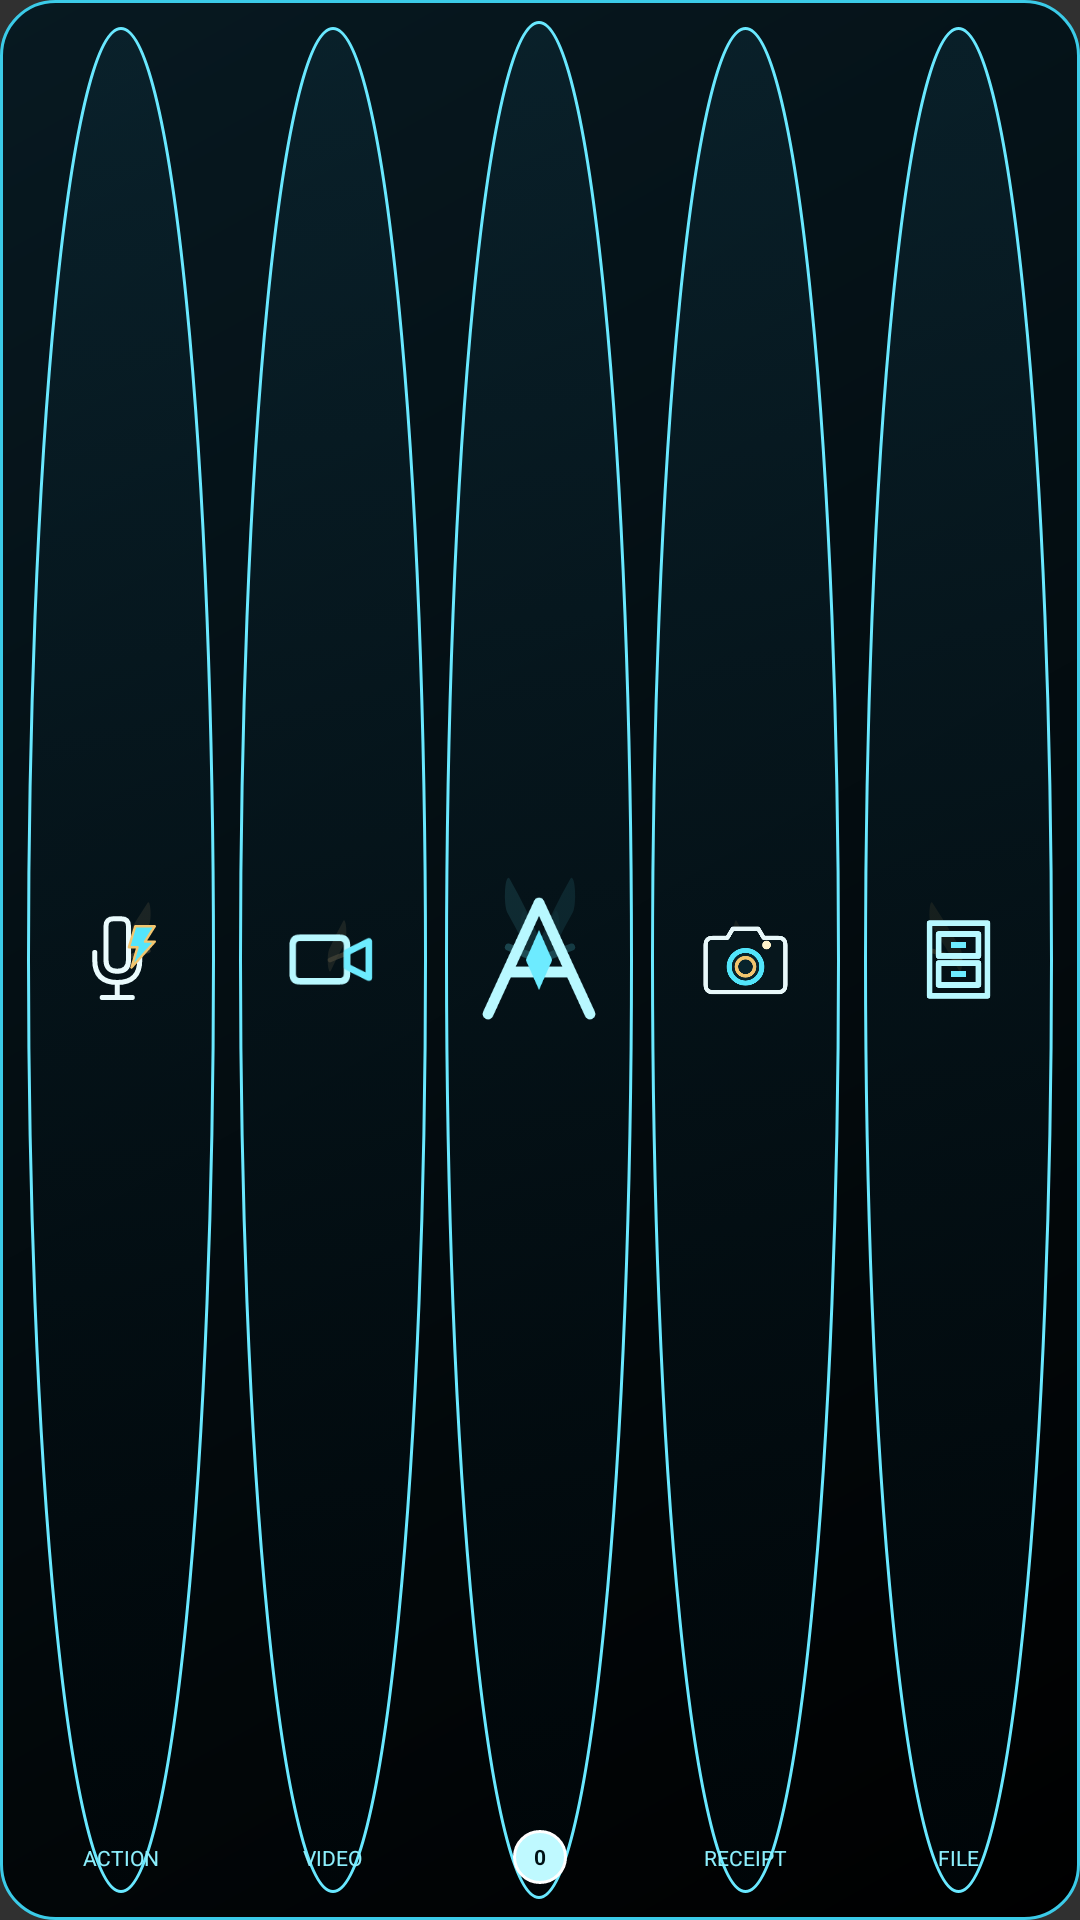

Where icons sit on this 1080w x 1920h app screen, as bbox=(x1, y1, x2, y2):
aqua widget action: bbox=(92, 916, 156, 1000)
aqua widget file: bbox=(926, 920, 991, 999)
aqua widget photo: bbox=(703, 926, 788, 994)
aqua widget video: bbox=(289, 934, 373, 985)
